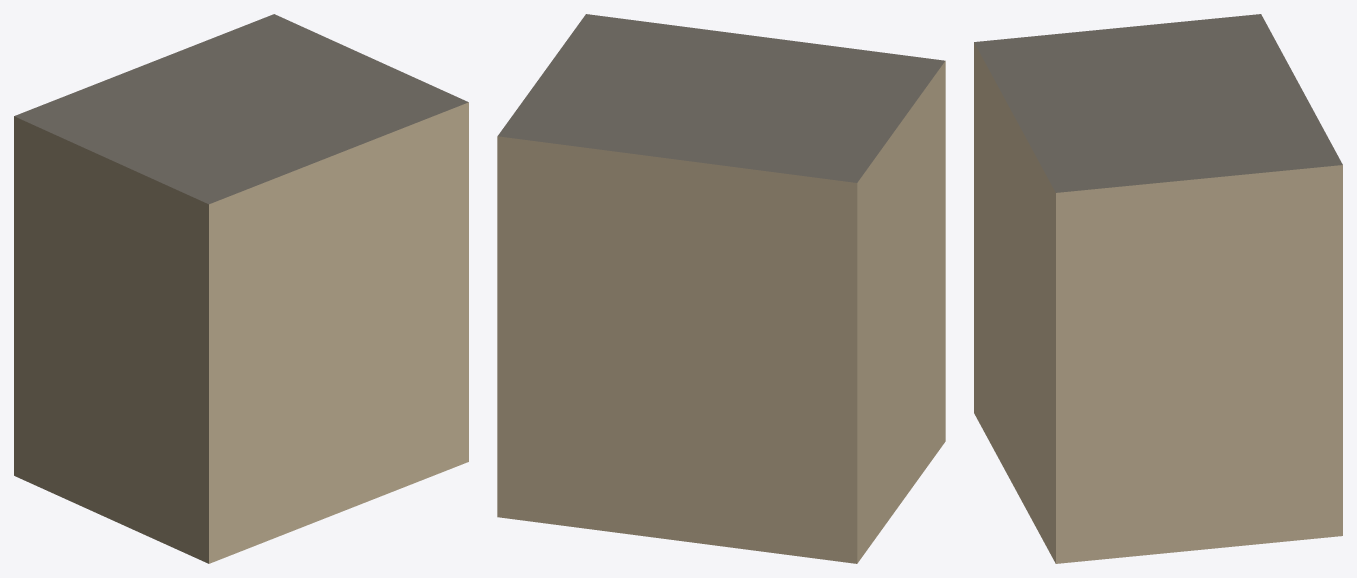
The picture shows the model from 3 angles, left to right: view 1: azimuth 30°, elevation 25°; view 2: azimuth 150°, elevation 25°; view 3: azimuth 270°, elevation 25°; orthographic projection. The views are drawn at different scales.
Parts seen in each view (by area): view 1: HP-w1331393451; view 2: HP-w1331393451; view 3: HP-w1331393451.
Part boxes in pixels (bbox=[...]): HP-w1331393451: bbox=[14, 14, 468, 563]; HP-w1331393451: bbox=[497, 14, 945, 563]; HP-w1331393451: bbox=[974, 14, 1342, 563].
Size of the model in its own units: 13.65 by 13.2 by 11.9.
